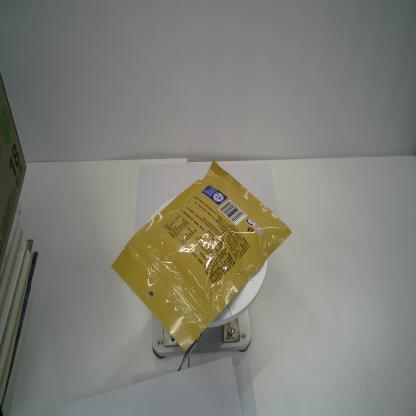Dried Fruit: (109, 160, 292, 354)
